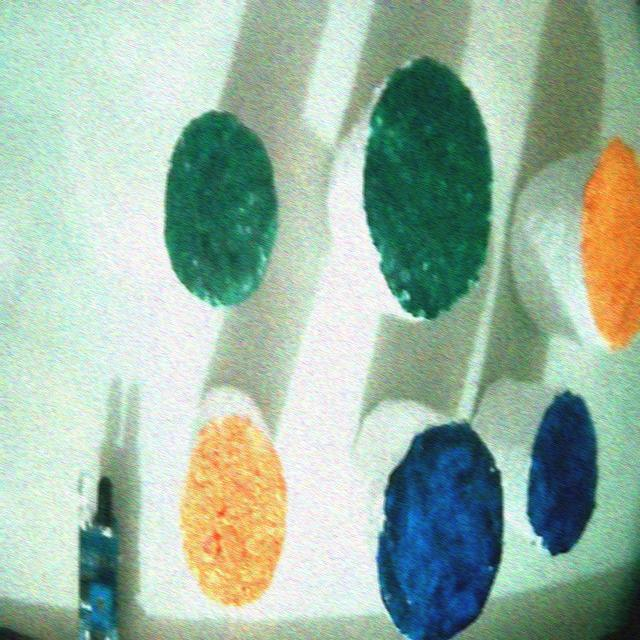blue: (375, 423, 502, 639), (527, 392, 596, 555)
green: (364, 57, 491, 319), (164, 111, 277, 306)
yellow: (180, 418, 286, 605), (580, 138, 639, 347)
